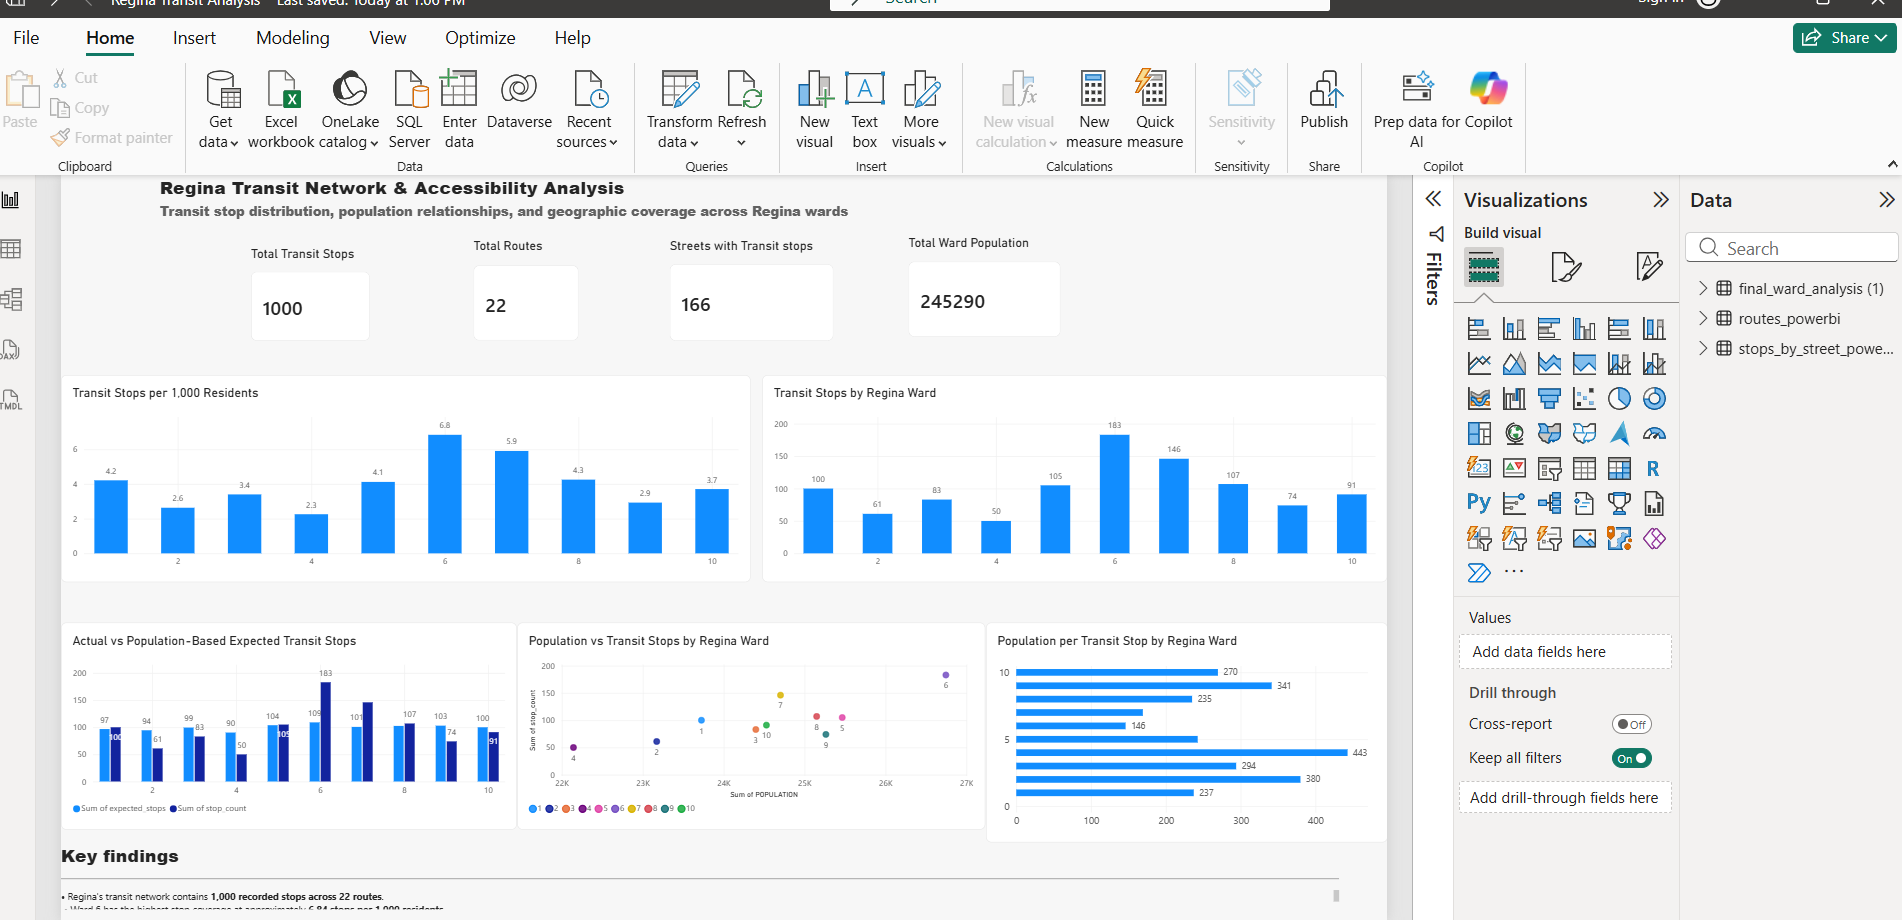

This screenshot's page, from the dashboard's own definition file:
{"tool":"powerbi","page":{"name":"Regina Transit Accessibility Analysis","canvas":[1920,1080],"ordinal":0},"visuals":[{"type":"cardVisual","title":"Total Transit Stops","fields":{"Data":["Sum(final_ward_analysis (1).stop_count)"]},"box":[215,102.5,172.5,137.5],"z":0},{"type":"cardVisual","title":"Total Routes","fields":{"Data":["CountNonNull(routes_powerbi.ROUTE_NUM)"]},"box":[597.5,92.5,152.5,147.5],"z":1000},{"type":"cardVisual","title":"Total Ward Population","fields":{"Data":["Sum(final_ward_analysis (1).POPULATION)"]},"box":[1227.5,87.5,220,147.5],"z":2000},{"type":"cardVisual","title":"Streets with Transit stops","fields":{"Data":["Count(stops_by_street_powerbi.ONSTREET)"]},"box":[910,92.5,208.3,148.3],"z":3000},{"type":"clusteredColumnChart","title":"Transit Stops by Regina Ward","fields":{"Category":["final_ward_analysis (1).ID"],"Y":["Sum(final_ward_analysis (1).stop_count)"]},"box":[1015,290,905,300],"z":4000},{"type":"clusteredColumnChart","title":"Transit Stops per 1,000 Residents","fields":{"Category":["final_ward_analysis (1).ID"],"Y":["Sum(final_ward_analysis (1).Stops per 1,000)"]},"box":[0,290,998.3,300],"z":5000},{"type":"clusteredColumnChart","title":"Actual vs Population-Based Expected Transit Stops","fields":{"Category":["final_ward_analysis (1).ID"],"Y":["Sum(final_ward_analysis (1).expected_stops)","Sum(final_ward_analysis (1).stop_count)"]},"box":[0,648.3,660,300],"z":6000},{"type":"scatterChart","title":"Population vs Transit Stops by Regina Ward","fields":{"Series":["final_ward_analysis (1).ID"],"X":["Sum(final_ward_analysis (1).POPULATION)"],"Y":["Sum(final_ward_analysis (1).stop_count)"]},"box":[660,647.5,677.5,300],"z":7000},{"type":"clusteredBarChart","title":"Population per Transit Stop by Regina Ward","fields":{"Category":["final_ward_analysis (1).ID"],"Y":["Sum(final_ward_analysis (1).population_per_stop)"]},"box":[1338.3,648.3,581.7,318.3],"z":8000},{"type":"textbox","title":"Regina Transit Network & Accessibility Analysis","box":[143.3,0,1056.7,121.7],"z":9000},{"type":"textbox","title":"Key findings","box":[0,966.7,1850,96.7],"z":10000}]}

Visuals, with their boxes on the page's 1920x1080 design canvas (x1, y1, x2, y2). These are canvas units, not pixel positions in the 1902x920 screenshot, which may show the page scaled, cropped or inside an application window:
"Total Transit Stops" cardVisual: bbox(215, 102, 388, 240)
"Total Routes" cardVisual: bbox(598, 92, 750, 240)
"Total Ward Population" cardVisual: bbox(1228, 88, 1448, 235)
"Streets with Transit stops" cardVisual: bbox(910, 92, 1118, 241)
"Transit Stops by Regina Ward" clusteredColumnChart: bbox(1015, 290, 1920, 590)
"Transit Stops per 1,000 Residents" clusteredColumnChart: bbox(0, 290, 998, 590)
"Actual vs Population-Based Expected Transit Stops" clusteredColumnChart: bbox(0, 648, 660, 948)
"Population vs Transit Stops by Regina Ward" scatterChart: bbox(660, 648, 1338, 948)
"Population per Transit Stop by Regina Ward" clusteredBarChart: bbox(1338, 648, 1920, 967)
"Regina Transit Network & Accessibility Analysis" textbox: bbox(143, 0, 1200, 122)
"Key findings" textbox: bbox(0, 967, 1850, 1063)
